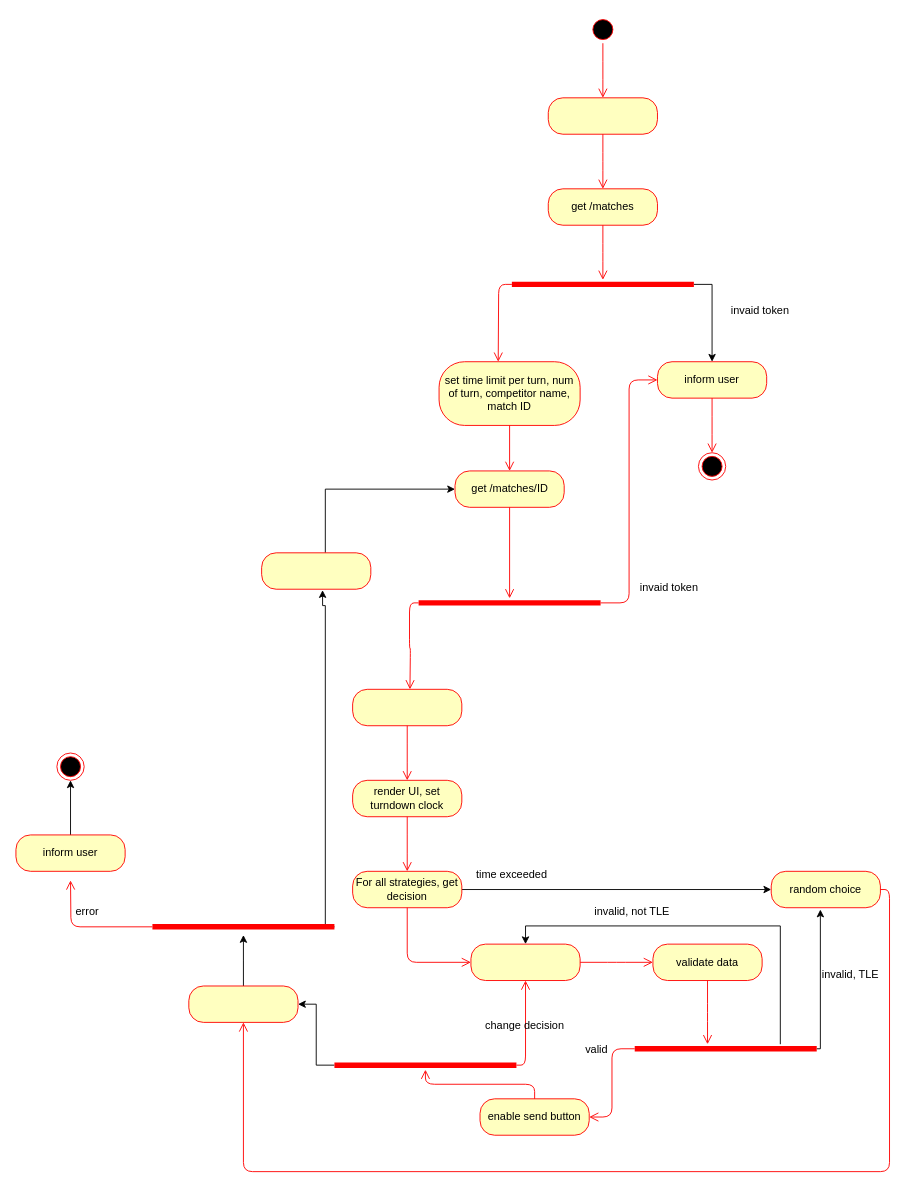
The diagram is 924 pixels wide and 1197 high, and some of its shapes have lost their labels. The centre of each missing label's shape, as x and y in pixels:
get user decision's choice: (x=525, y=962)
save width, height, point, startedTime,... to store: (x=407, y=707)
send action: (x=243, y=1003)
set up params, token: (x=602, y=115)
wait for time exceed: (x=316, y=570)
